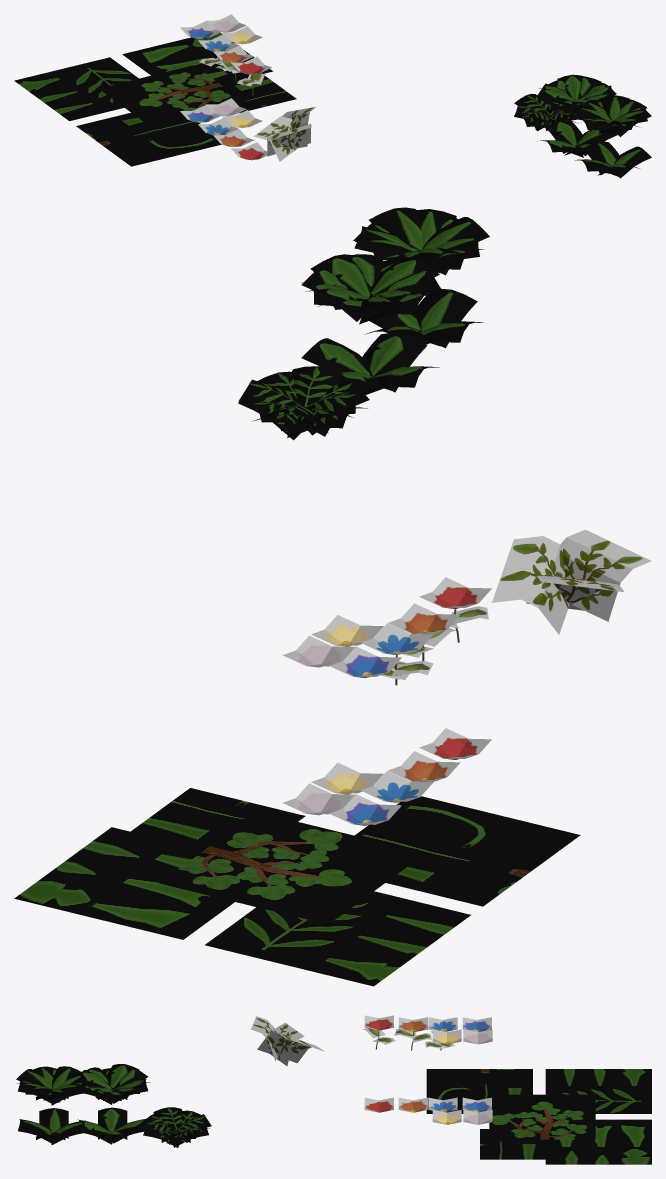
Rendered from FoliagePack.fbx.
The picture shows the model from 3 angles, top to bottom: view 1: azimuth 30°, elevation 25°; view 2: azimuth 150°, elevation 25°; view 3: azimuth 270°, elevation 25°; orthographic projection. The views are drawn at different scales.
Parts seen in each view (by area): view 1: Plane.040, Plane.043, Plane.042, Plane.041, Plane.110, Plane.095, Plane.023, Plane.097, Plane.096, Plane.044, Plane.105, Plane.034 (+12 smaller); view 2: Plane.040, Plane.043, Plane.042, Plane.041, Plane.023, Plane.095, Plane.105, Plane.110, Plane.044, Plane.096, Plane.097, Plane.034 (+11 smaller); view 3: Plane.040, Plane.041, Plane.042, Plane.043, Plane.110, Plane.095, Plane.105, Plane.023, Plane.044, Plane.097, Plane.096, Plane.033 (+12 smaller).
Part boxes in pixels (x1,y1,x2,y2): Plane.040: (98,65,249,128); Plane.043: (76,112,221,166); Plane.042: (14,57,138,120); Plane.041: (122,32,272,84); Plane.110: (574,95,651,136); Plane.095: (537,74,616,114); Plane.023: (253,107,315,161); Plane.097: (575,141,651,178); Plane.096: (537,120,616,157); Plane.044: (221,76,296,113); Plane.105: (514,93,577,131); Plane.034: (198,34,238,71); Plane.040: (159,812,425,924); Plane.043: (355,796,580,906); Plane.042: (205,891,470,986); Plane.041: (14,827,234,939); Plane.023: (492,529,651,634); Plane.095: (301,254,441,324); Plane.105: (238,366,369,440); Plane.110: (353,207,489,275); Plane.044: (131,788,305,849); Plane.096: (301,333,439,394); Plane.097: (364,288,483,348); Plane.034: (361,623,433,685); Plane.040: (489,1094,595,1139); Plane.041: (545,1119,651,1164); Plane.042: (545,1069,651,1113); Plane.043: (426,1069,532,1113); Plane.110: (16,1066,89,1105); Plane.095: (78,1064,150,1104); Plane.105: (143,1107,211,1147); Plane.023: (251,1016,324,1065); Plane.044: (480,1129,545,1159); Plane.097: (18,1108,86,1144); Plane.096: (78,1107,147,1144); Plane.033: (394,1017,431,1050).
Size of the model in its own units: 6230 by 2419 by 11184.
